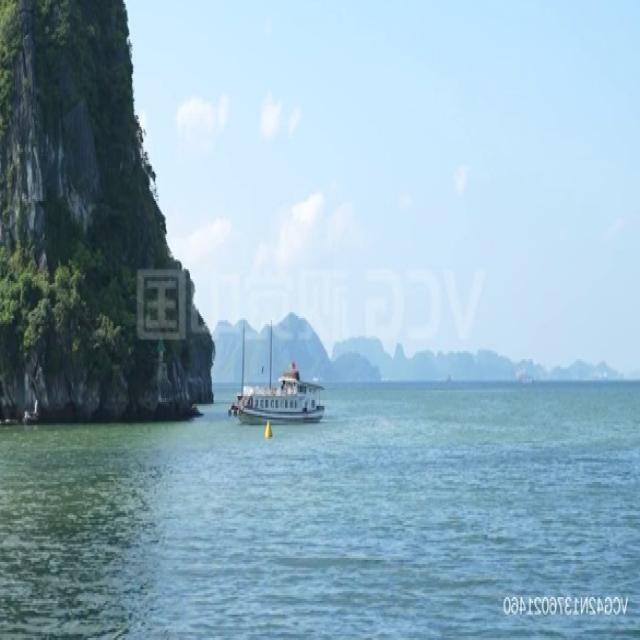passenger ship: (234, 353, 328, 423)
